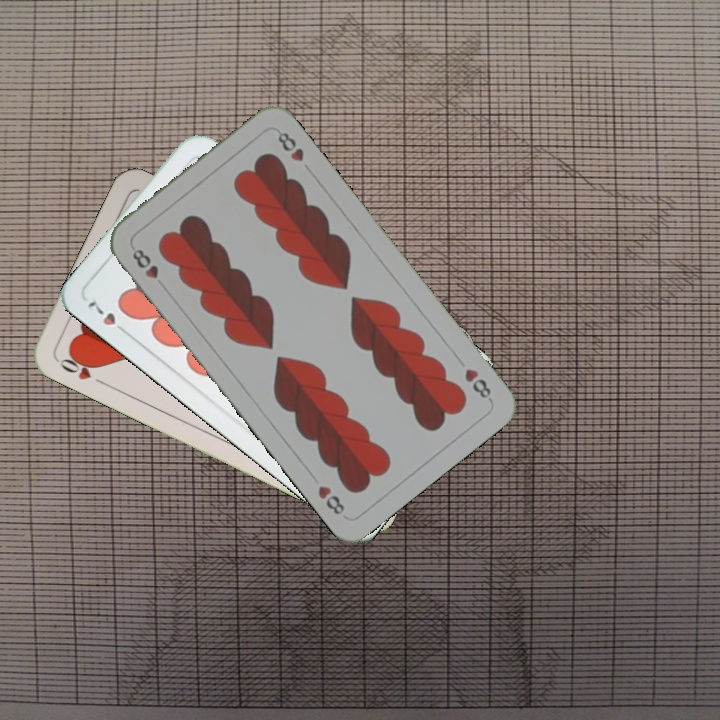H7: (83, 295, 132, 338)
H8: (460, 364, 495, 404), (128, 245, 161, 282)
HO: (54, 349, 109, 388)
